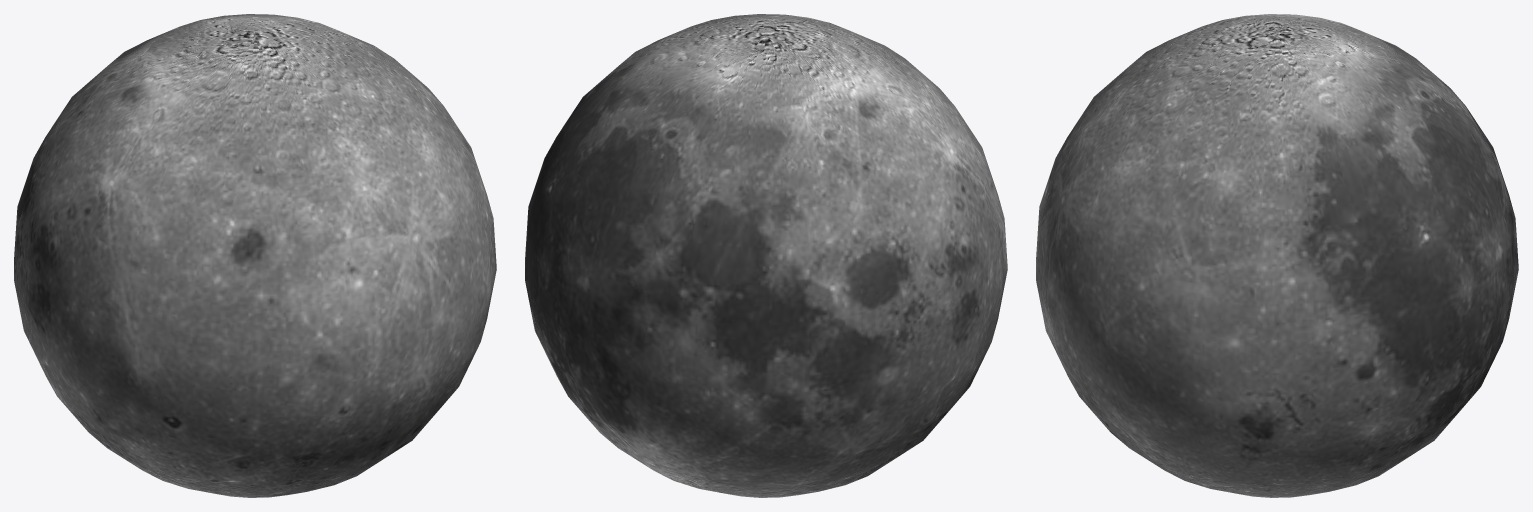
Rendered from moon.FBX.
3 views of the same model, side by side, from view 1: azimuth 30°, elevation 25°; view 2: azimuth 150°, elevation 25°; view 3: azimuth 270°, elevation 25° (orthographic).
Visible parts, largest first — view 1: Sun; view 2: Sun; view 3: Sun.
Boxes of the visible parts, left/top/right/bottom form: Sun: left=14, top=14, right=496, bottom=497; Sun: left=525, top=14, right=1007, bottom=497; Sun: left=1036, top=14, right=1518, bottom=497.
Bounding box in the file's own units: 11.07 × 11.11 × 11.05.
1 material, 1 textured.
